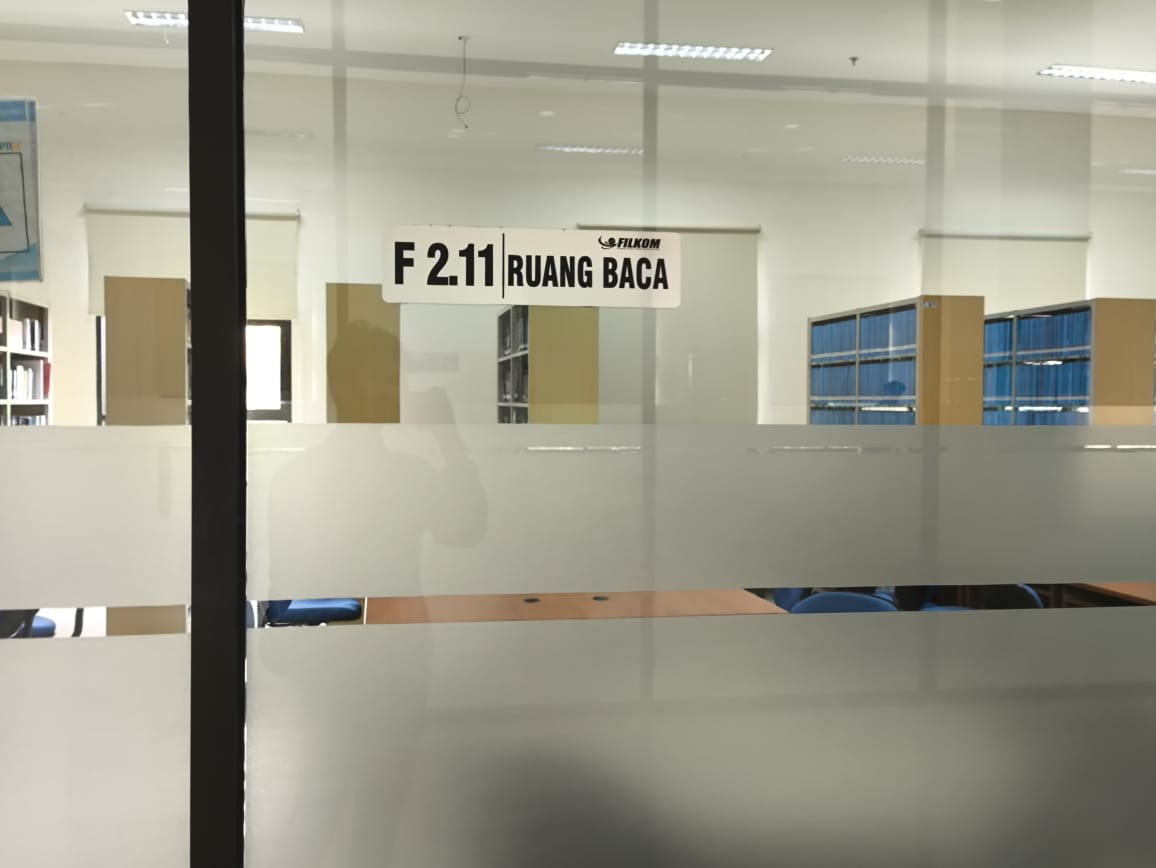ruangan: (376, 219, 688, 315)
